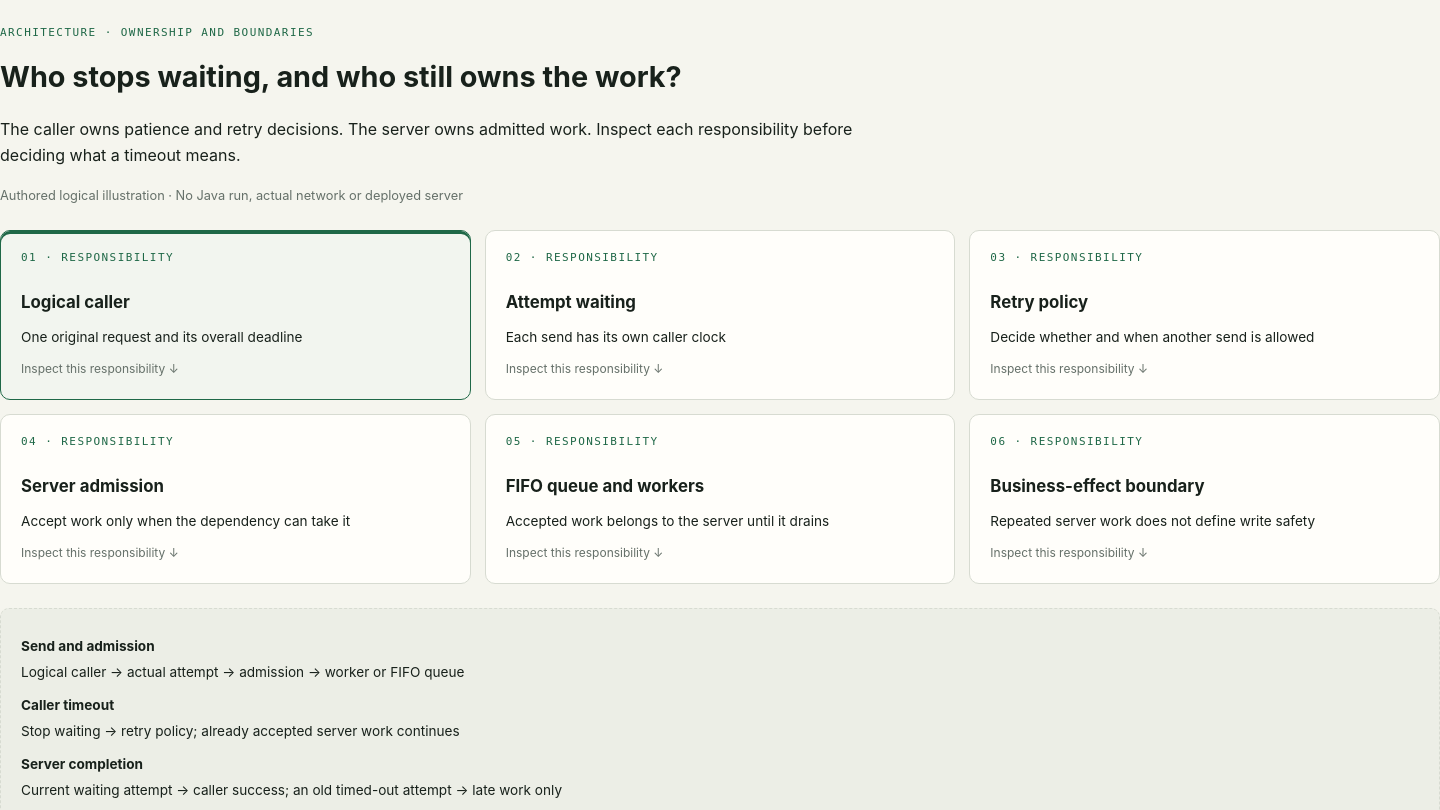
Test: inspects the retry and server ownership boundaries with a complete textual explanation
Click the button with aria-label "Inspect Retry policy": (1075, 257) [969,230,1439,400]
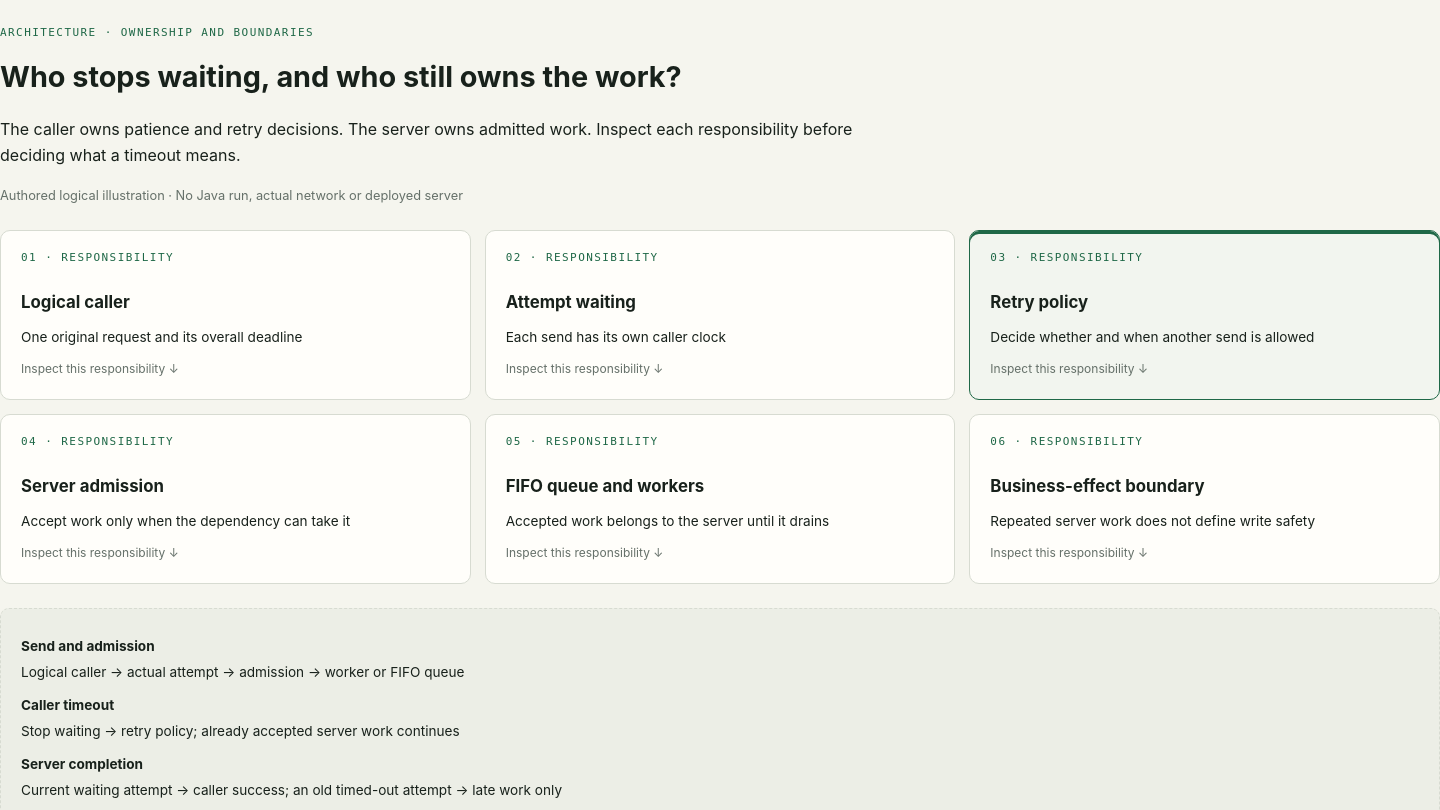
Expected: the button with aria-label "Inspect Retry policy" is pressed, [969,230,1439,400]
Click the button with aria-label "Inspect FIFO queue and workers": (590, 441) [485,414,955,584]
(page scrolled)
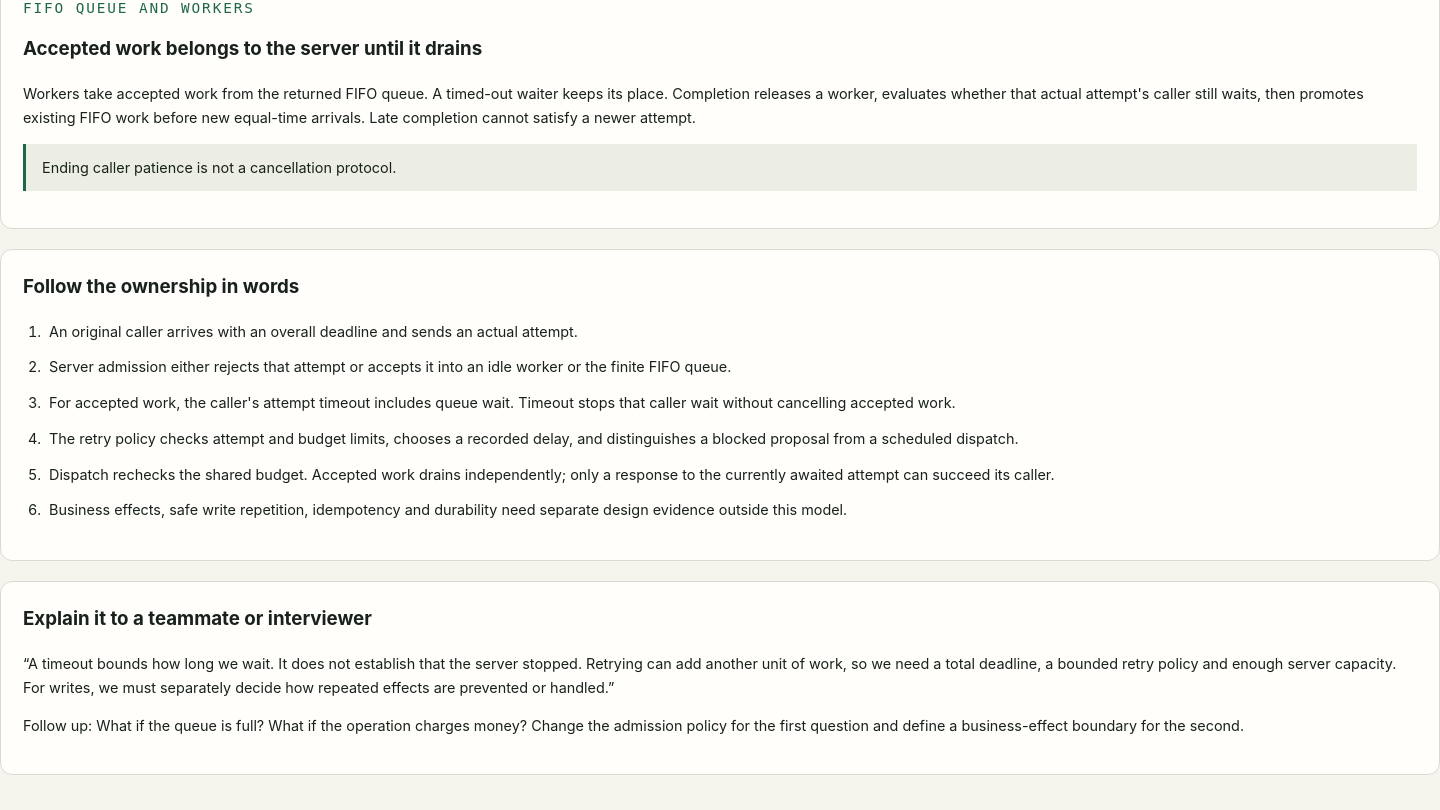
Expected: the element named "Retry architecture text equivalent" shows "without cancelling accepted work", [49,394,956,411]
Expected: the element named "Selected retry responsibility" shows "Late completion cannot satisfy a newer attempt", [23,85,1364,126]
